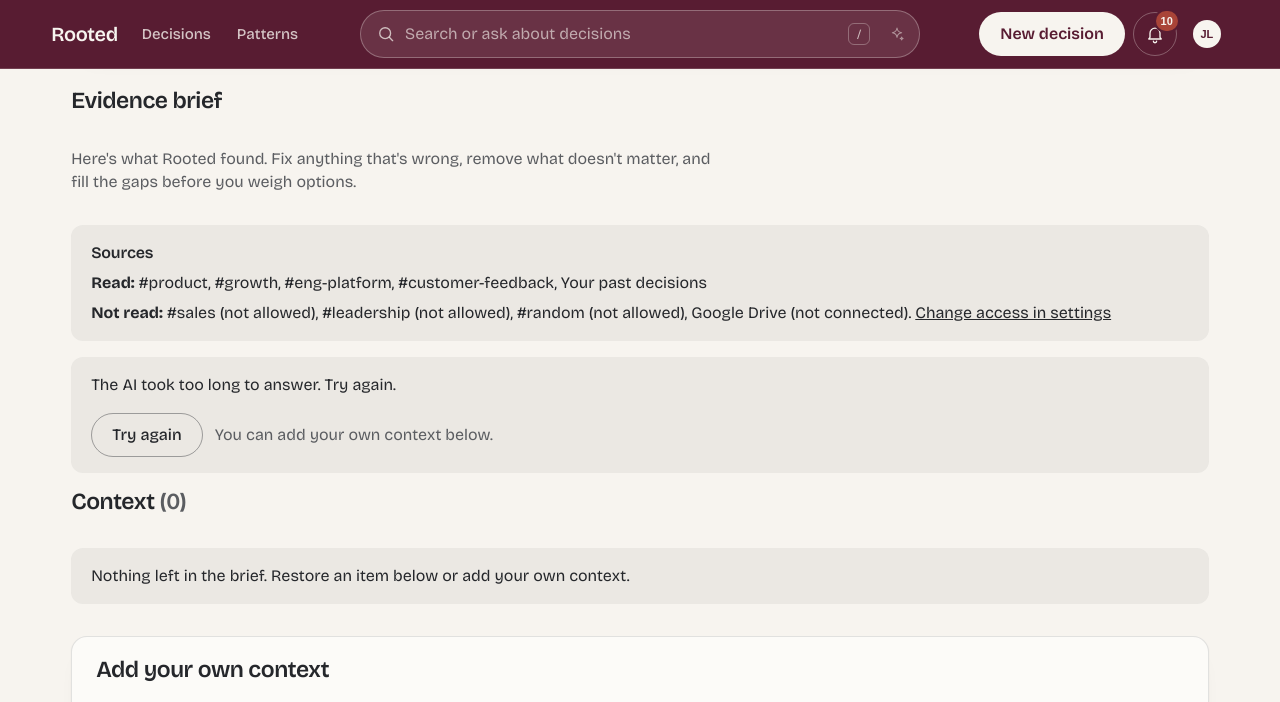
BriefPage › F-06: when Claude can’t gather, it says why, can retry, and the PM can add context themselves
(page scrolled)
Check: the text "The AI took too long to answer. Try again." is shown, box [91, 375, 396, 394]
Click the button "Try again": (147, 435) [91, 413, 203, 457]
(page scrolled)
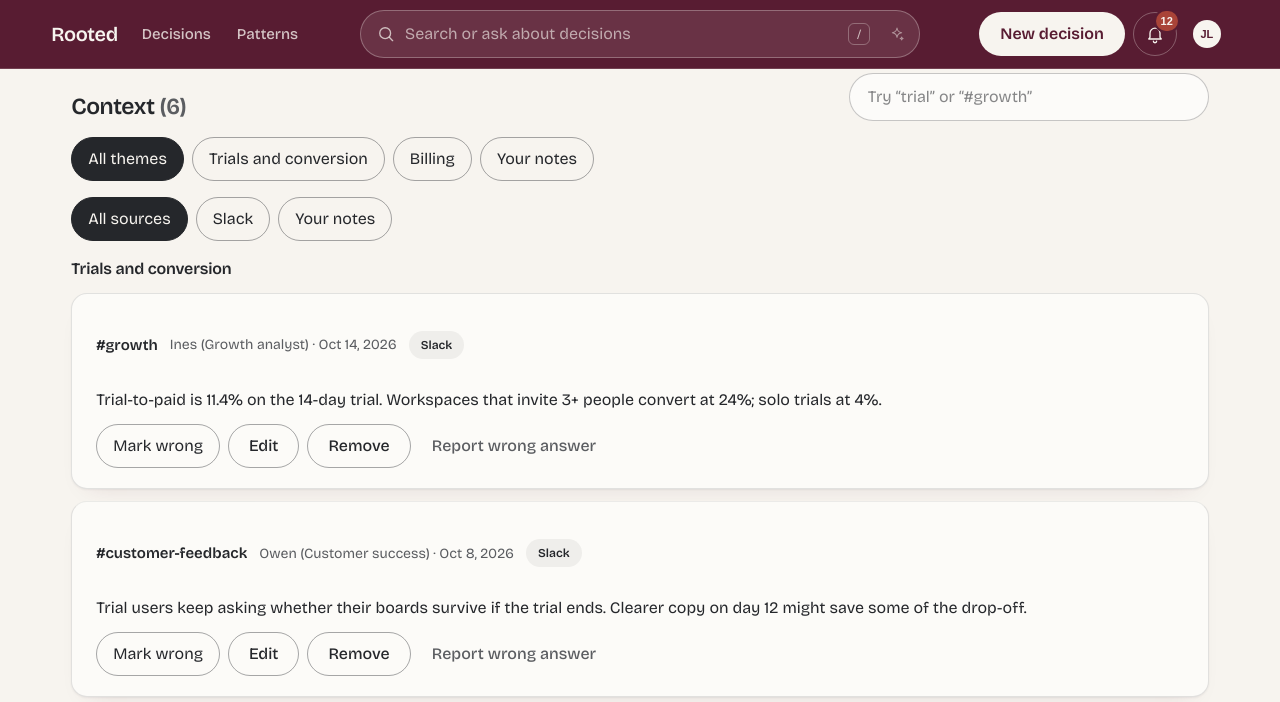
Check: the text "Trial-to-paid is 11.4%" is shown, box [96, 390, 882, 409]
Check: the text "The AI took too long to answer. Try again." is gone
